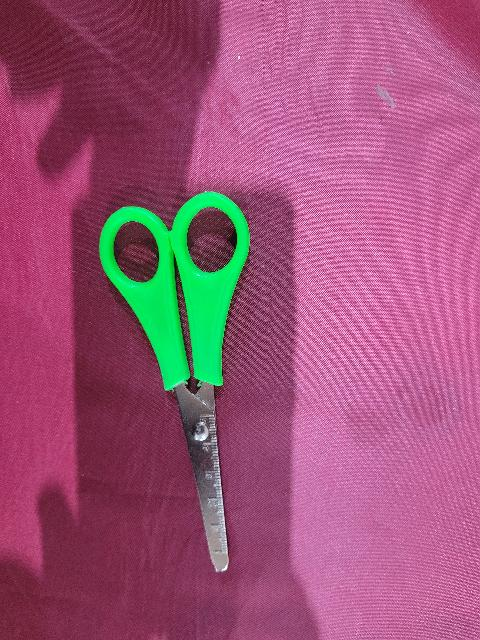Metal: (156, 373, 252, 590)
Plastik: (98, 176, 254, 394)
